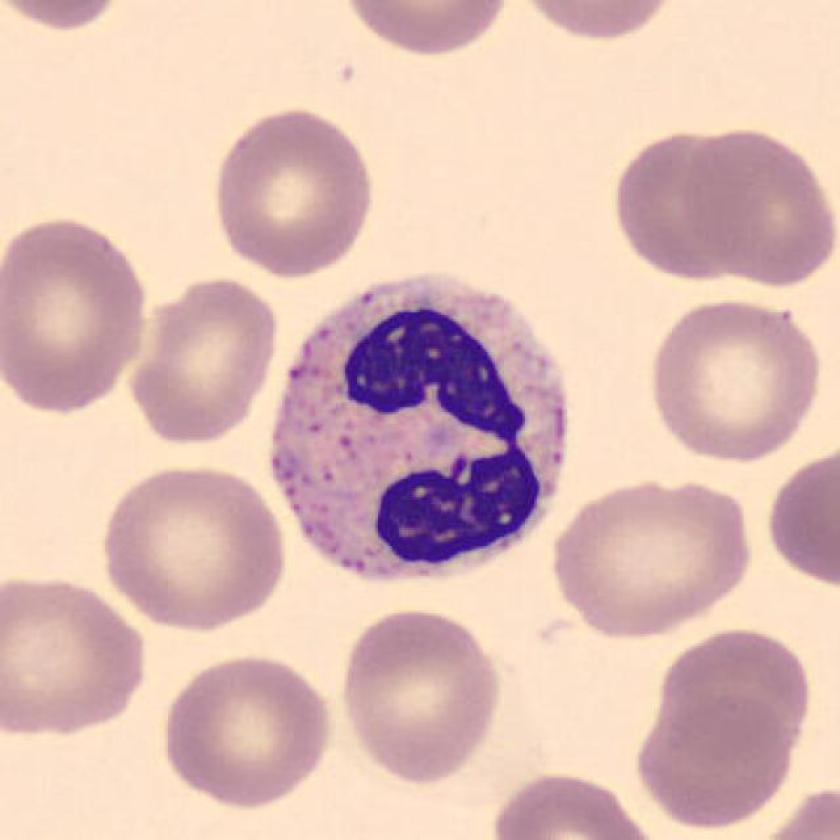neutrophil: (274, 278, 568, 576)
